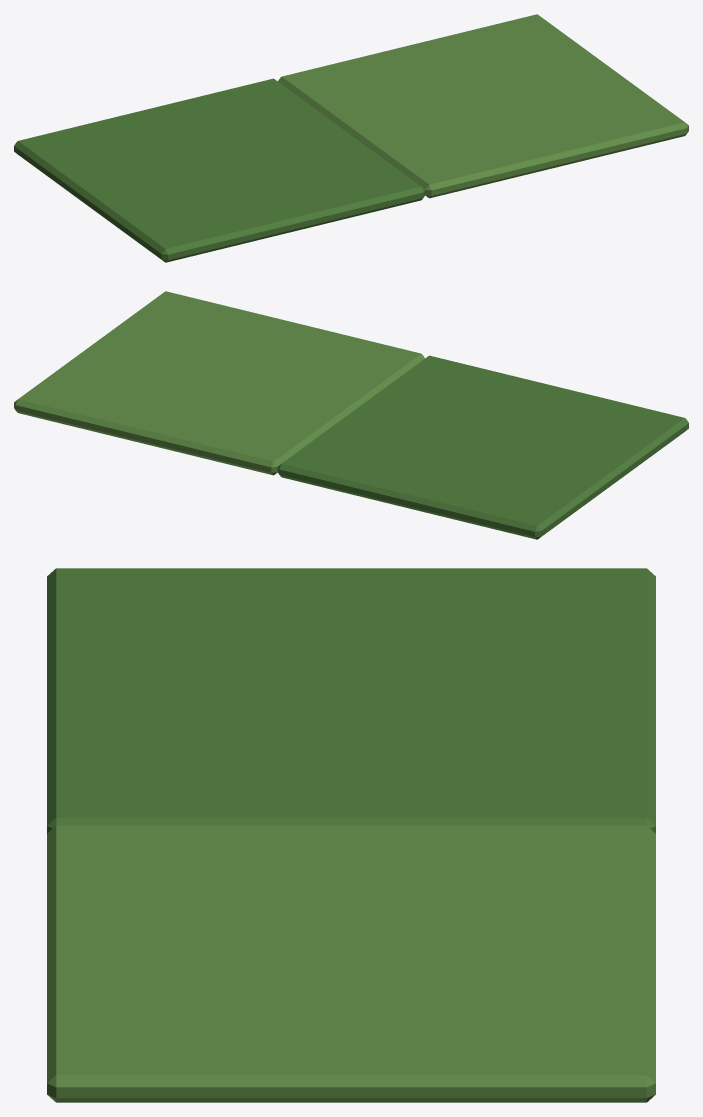
The model's file is ground_tile.glb.
The picture shows the model from 3 angles, top to bottom: view 1: azimuth 30°, elevation 25°; view 2: azimuth 150°, elevation 25°; view 3: azimuth 270°, elevation 25°; orthographic projection. The views are drawn at different scales.
Visible parts, largest first — view 1: GroundTile_A, GroundTile_B; view 2: GroundTile_A, GroundTile_B; view 3: GroundTile_B, GroundTile_A.
Part boxes in pixels (x1=…): GroundTile_A: x1=14, y1=78, x2=425, y2=262; GroundTile_B: x1=278, y1=14, x2=688, y2=198; GroundTile_A: x1=277, y1=355, x2=688, y2=539; GroundTile_B: x1=14, y1=291, x2=424, y2=475; GroundTile_B: x1=47, y1=825, x2=655, y2=1102; GroundTile_A: x1=47, y1=568, x2=655, y2=833.
Size of what is drawn, in the model's own units: 4 by 0.1 by 2.
